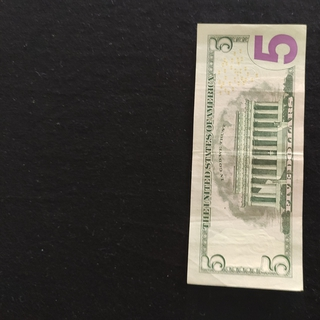5USDBack: (185, 23, 309, 292)
